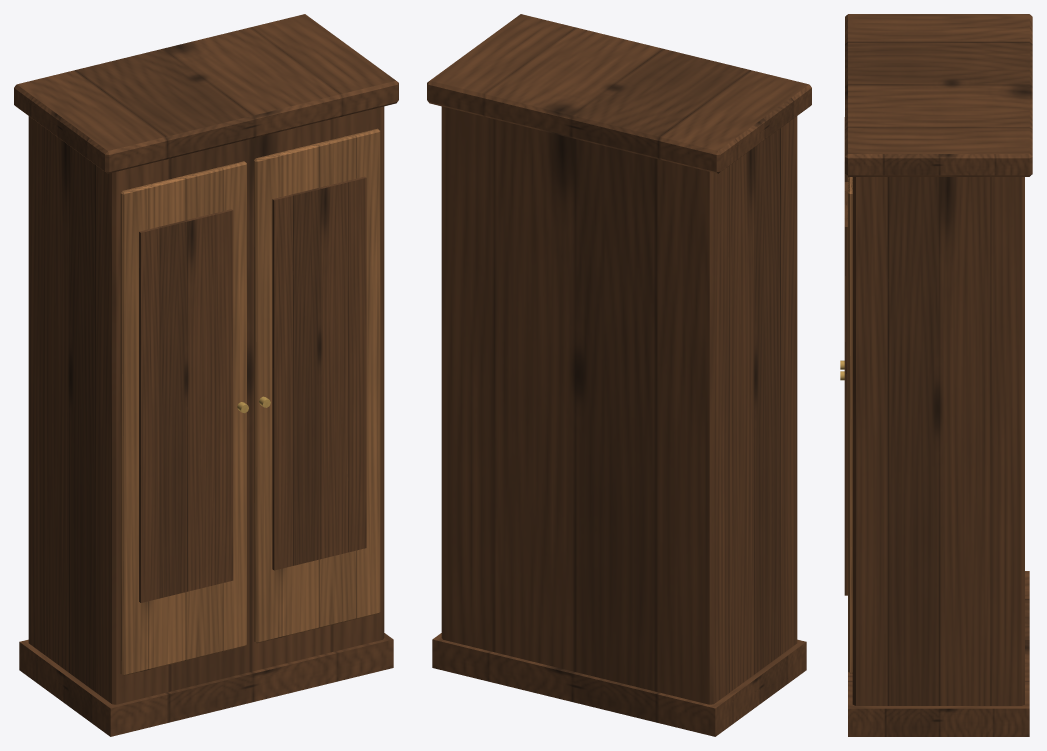
The model's file is OB_Szafa.fbx.
3 renders of one model, left to right at view 1: azimuth 30°, elevation 25°; view 2: azimuth 150°, elevation 25°; view 3: azimuth 270°, elevation 25°, orthographic.
Visible parts, largest first — view 1: Szafa; view 2: Szafa; view 3: Szafa.
Part boxes in pixels (x1,y1,x2,y2): Szafa: (14,14,398,736); Szafa: (427,14,811,736); Szafa: (840,14,1032,736).
Bounding box in the file's own units: 1.08 × 2.06 × 0.615.
